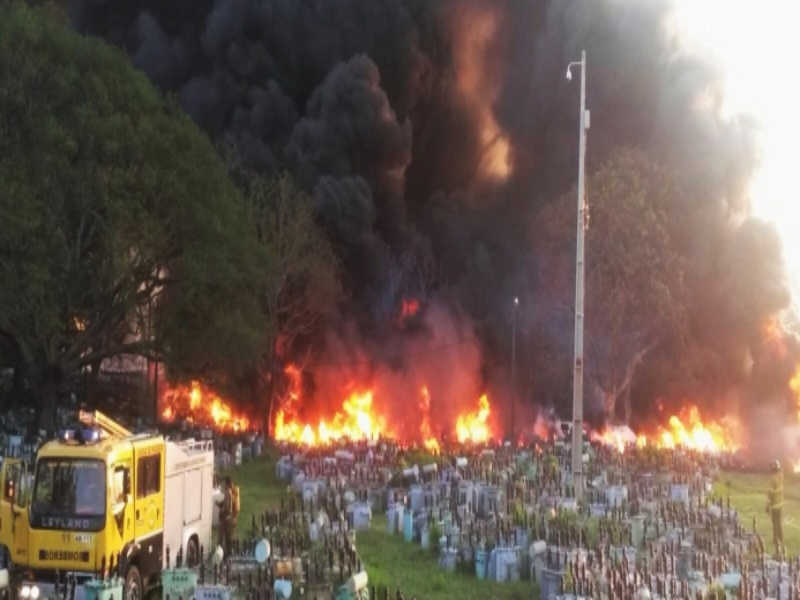smoke: (217, 1, 559, 252)
